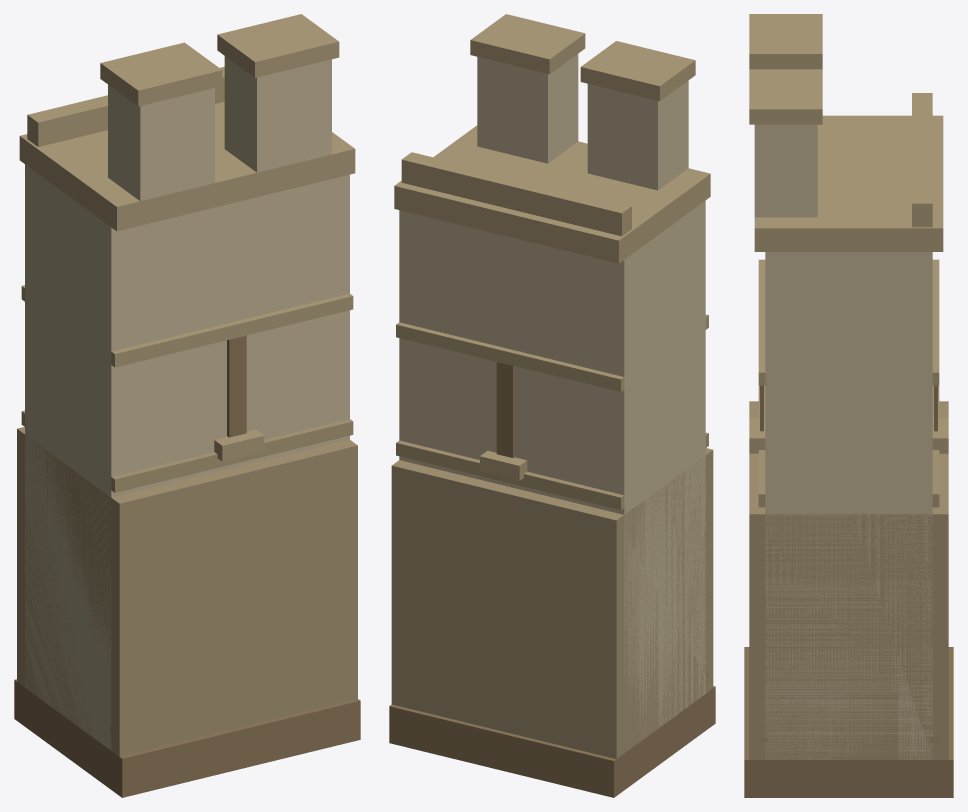
File: wall_t3_seg.glb
3 renders of one model, left to right at view 1: azimuth 30°, elevation 25°; view 2: azimuth 150°, elevation 25°; view 3: azimuth 270°, elevation 25°, orthographic. The views are drawn at different scales.
Visible parts, largest first — view 1: body; view 2: body; view 3: body.
Part boxes in pixels (left/top/right/bottom): body: left=14, top=14, right=360, bottom=797; body: left=389, top=14, right=715, bottom=797; body: left=744, top=14, right=953, bottom=797.
Size of the model in its own units: 1.02 by 2.87 by 0.8.
